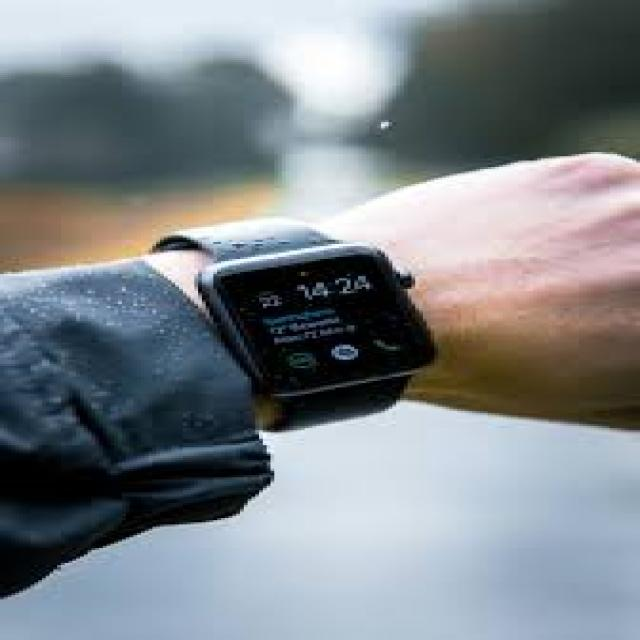watch: (202, 243, 474, 399)
